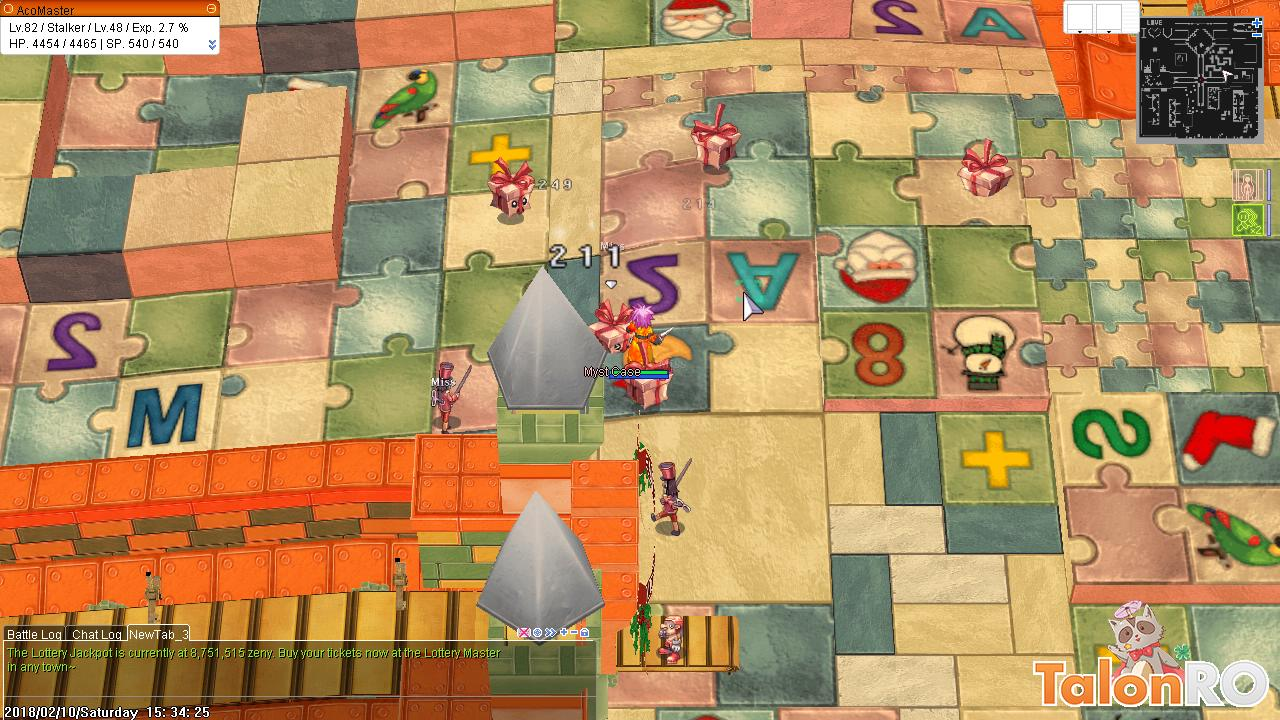mob: (423, 354, 479, 439), (648, 450, 698, 541)
myst_case: (686, 100, 744, 175), (955, 134, 1016, 202), (485, 157, 542, 221), (585, 298, 636, 350), (627, 375, 673, 412)
